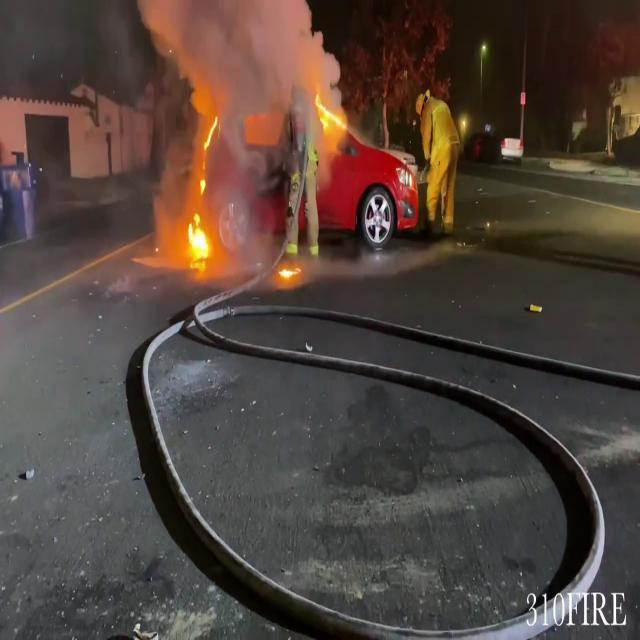Fire: (174, 101, 232, 272), (314, 82, 348, 148)
Smoke: (123, 0, 325, 264)
